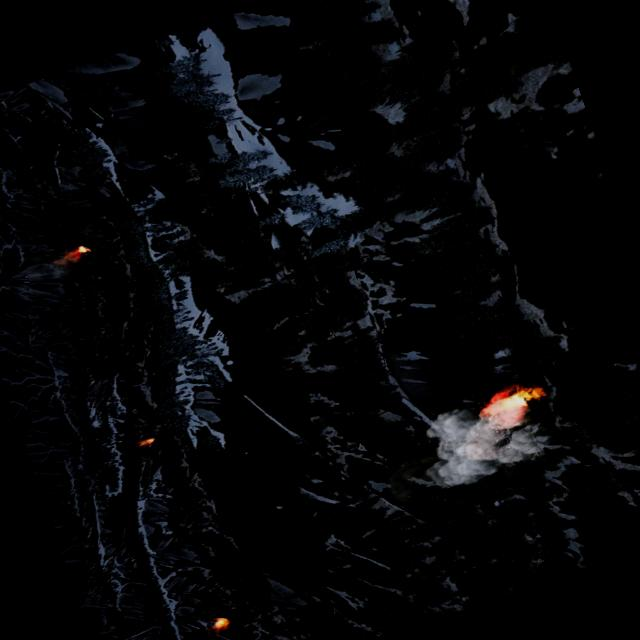fire: (484, 376, 547, 418), (70, 242, 90, 258), (212, 612, 231, 628), (140, 433, 156, 445)
smoke: (397, 380, 552, 498), (15, 250, 76, 292)
